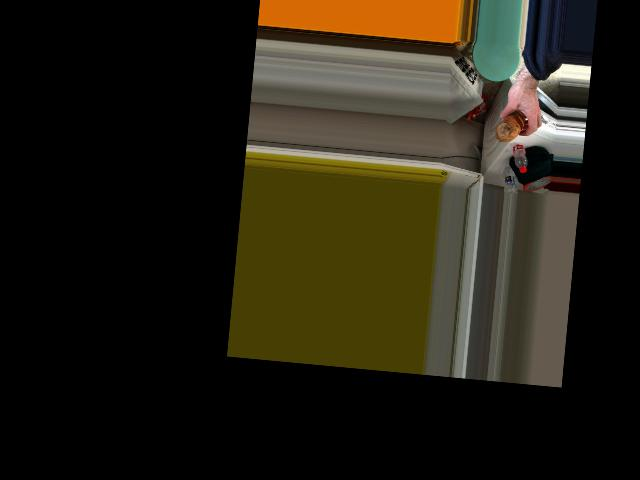sweet_potato: (495, 108, 525, 144)
